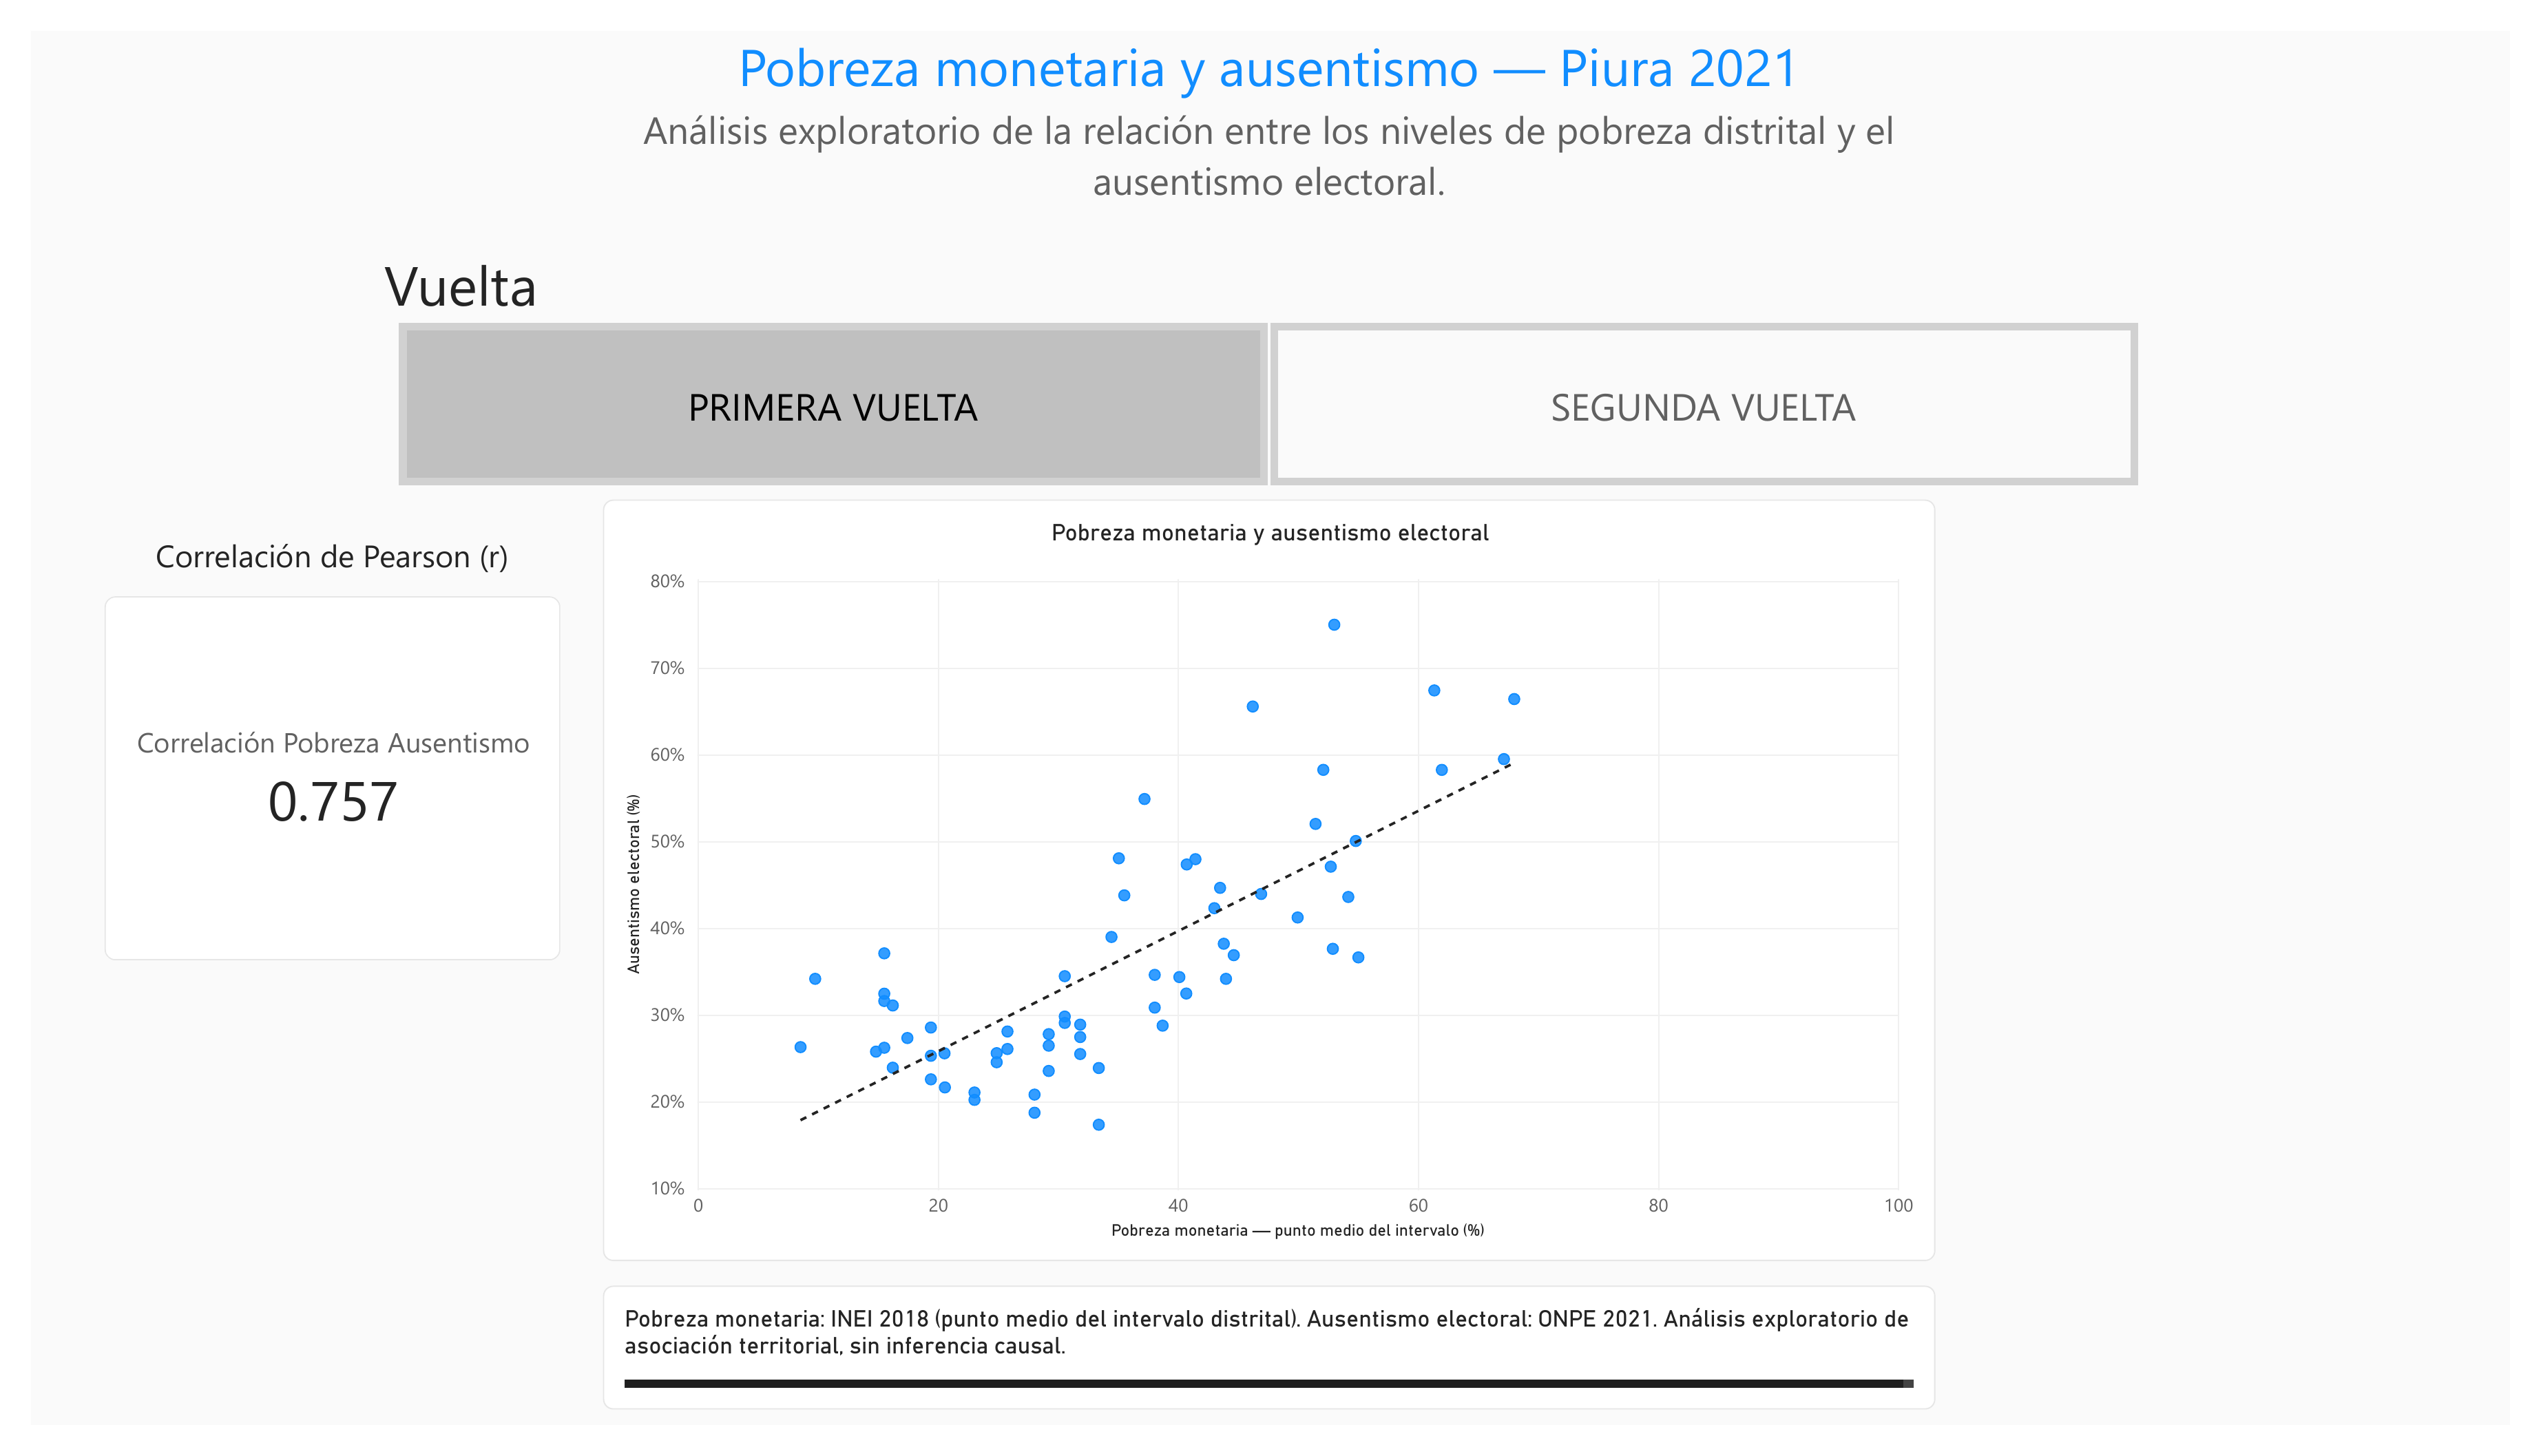

The dashboard page shown, as its layout file describes it:
{"tool":"powerbi","page":{"name":"04 — Pobreza y ausentismo","canvas":[1920,1080],"ordinal":3},"visuals":[{"type":"textbox","title":"Pobreza monetaria y ausentismo — Piura 2021","box":[410,0,1098.3,141.7],"z":0},{"type":"slicer","fields":{"Values":["FACT_PARTICIPACION.VUELTA"]},"box":[265.5,166.7,1385.3,185.2],"z":1000},{"type":"scatterChart","title":"Pobreza monetaria y ausentismo electoral","fields":{"Category":["DIM_TERRITORIO.UBIGEO"],"X":["_MEDIDAS.Pobreza estimada %"],"Y":["_MEDIDAS.Ausentismo %"]},"box":[443.3,363.3,1031.7,590],"z":2000},{"type":"aiNarratives","title":"Pobreza monetaria: INEI 2018 (punto medio del intervalo distrital). Ausentismo electoral: ONPE 2021. Análisis exploratorio de asociación territorial, sin inferencia causal.","box":[443.3,971.7,1031.7,96.7],"z":3000},{"type":"cardVisual","title":"Correlación de Pearson (r)","fields":{"Data":["_MEDIDAS.Correlación Pobreza Ausentismo"]},"box":[56.7,390,353.3,330],"z":4000}]}

Visuals, with their boxes in screenshot pixels (x1, y1, x2, y2), scaled from the page's 1920x1080 canvas onto the 2541x1456 screenshot:
"Pobreza monetaria y ausentismo — Piura 2021" textbox: x1=543 y1=0 x2=1996 y2=191
slicer - FACT_PARTICIPACION.VUELTA: x1=351 y1=224 x2=2185 y2=474
"Pobreza monetaria y ausentismo electoral" scatterChart: x1=587 y1=489 x2=1952 y2=1285
"Pobreza monetaria: INEI 2018 (punto medio del intervalo distrital). Ausentismo electoral: ONPE 2021. Análisis exploratorio de asociación territorial, sin inferencia causal." aiNarratives: x1=587 y1=1310 x2=1952 y2=1440
"Correlación de Pearson (r)" cardVisual: x1=75 y1=526 x2=543 y2=971
